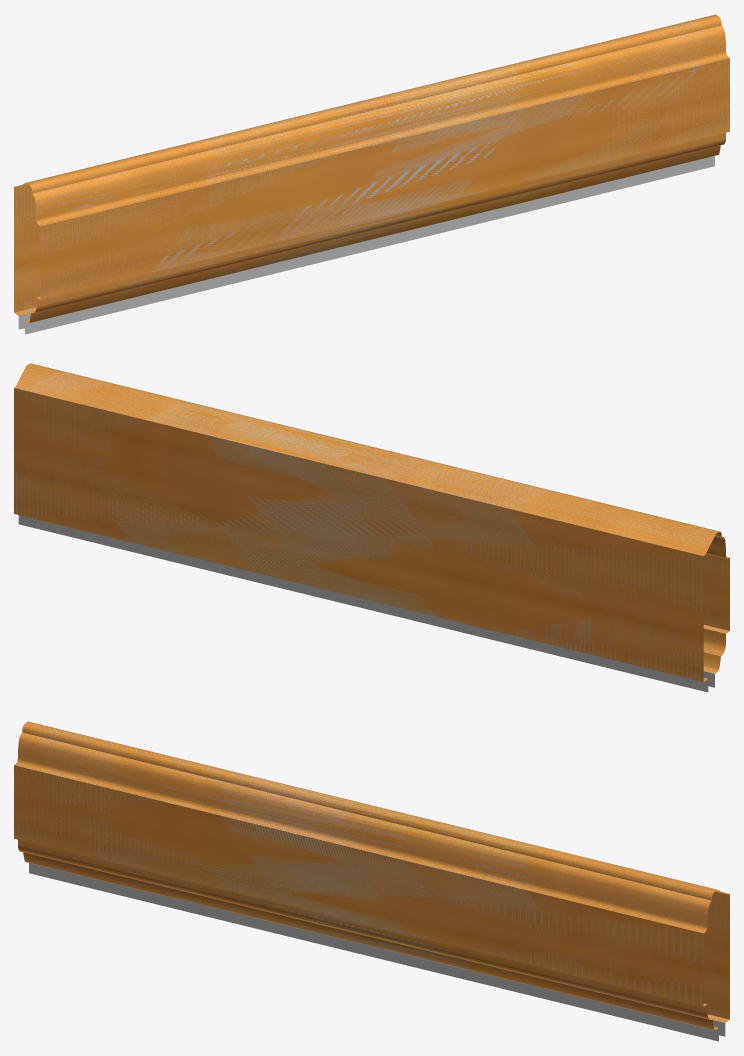
File: original-40.obj
The picture shows the model from 3 angles, top to bottom: view 1: azimuth 30°, elevation 25°; view 2: azimuth 150°, elevation 25°; view 3: azimuth 330°, elevation 25°; orthographic projection.
Visible parts, largest first — view 1: LT_11_TC1/LT_11_TC/mesh31/mesh31-geometry#mesh31-geometry; view 2: LT_11_TC1/LT_11_TC/mesh31/mesh31-geometry#mesh31-geometry; view 3: LT_11_TC1/LT_11_TC/mesh31/mesh31-geometry#mesh31-geometry.
Boxes of the visible parts, x1=… form: LT_11_TC1/LT_11_TC/mesh31/mesh31-geometry#mesh31-geometry: x1=14, y1=14, x2=729, y2=334; LT_11_TC1/LT_11_TC/mesh31/mesh31-geometry#mesh31-geometry: x1=14, y1=363, x2=729, y2=692; LT_11_TC1/LT_11_TC/mesh31/mesh31-geometry#mesh31-geometry: x1=14, y1=721, x2=729, y2=1041.
Bounding box in the file's own units: 0.5016 × 0.1062 × 0.0331.
